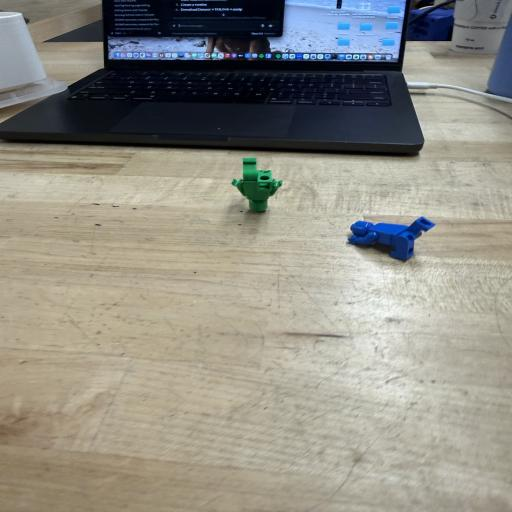blue-minifig: (347, 217, 435, 260)
green-minifig: (232, 158, 282, 212)
